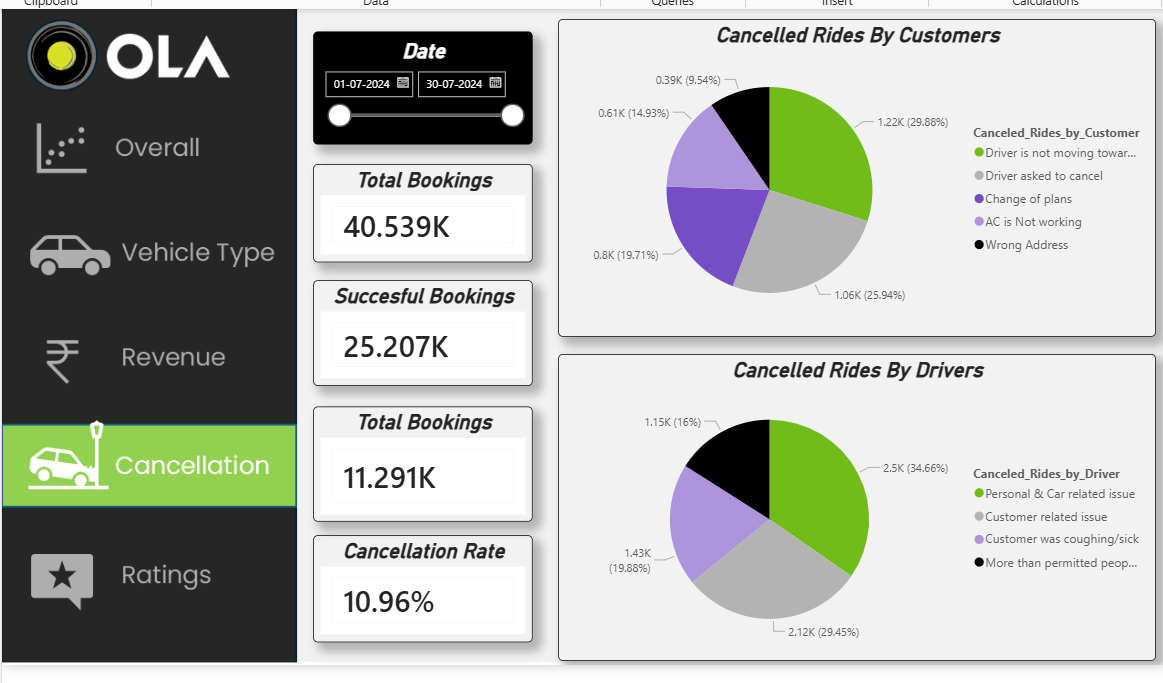

This screenshot's page, from the dashboard's own definition file:
{"tool":"powerbi","page":{"name":"Cancellation","canvas":[1280,720],"ordinal":3},"visuals":[{"type":"actionButton","box":[0,200.3,325.7,114.6],"z":0},{"type":"actionButton","box":[0,113.4,325.7,114.6],"z":1000},{"type":"actionButton","box":[0,334.2,325.7,114.6],"z":2000},{"type":"actionButton","box":[0,448.8,325.7,114.6],"z":3000},{"type":"actionButton","box":[0,546.5,325.7,114.6],"z":4000},{"type":"pieChart","title":"Cancelled Rides By Customers","fields":{"Category":["July.Canceled_Rides_by_Customer"],"Y":["CountNonNull(July.Canceled_Rides_by_Customer)"]},"box":[610.4,11,655.8,349],"z":5000},{"type":"pieChart","title":"Cancelled Rides By Drivers","fields":{"Category":["July.Canceled_Rides_by_Driver"],"Y":["CountNonNull(July.Canceled_Rides_by_Driver)"]},"box":[610.4,378.8,655.8,336.5],"z":6000},{"type":"slicer","title":"Date","fields":{"Values":["July.Date"]},"box":[341.2,25,241,123.6],"z":7000},{"type":"cardVisual","title":"Total Bookings","fields":{"Data":["CountNonNull(July.Booking_ID)"]},"box":[341.2,170.6,241,108],"z":8000},{"type":"cardVisual","title":"Succesful Bookings","fields":{"Data":["CountNonNull(July.Booking_ID)"]},"box":[341.2,297.4,241,115.8],"z":9000},{"type":"cardVisual","title":"Total Bookings","fields":{"Data":["CountNonNull(July.Booking_ID)"]},"box":[341.2,436.7,241,126.8],"z":10000},{"type":"cardVisual","title":"Cancellation Rate","fields":{"Data":["July.CanceledPercentage"]},"box":[341.2,577.6,241,117.4],"z":11000}]}

Visuals, with their boxes on the page's 1280x720 design canvas (x1, y1, x2, y2). These are canvas units, not pixel positions in the 1163x683 screenshot, which may show the page scaled, cropped or inside an application window:
actionButton: bbox(0, 200, 326, 315)
actionButton: bbox(0, 113, 326, 228)
actionButton: bbox(0, 334, 326, 449)
actionButton: bbox(0, 449, 326, 563)
actionButton: bbox(0, 546, 326, 661)
"Cancelled Rides By Customers" pieChart: bbox(610, 11, 1266, 360)
"Cancelled Rides By Drivers" pieChart: bbox(610, 379, 1266, 715)
"Date" slicer: bbox(341, 25, 582, 149)
"Total Bookings" cardVisual: bbox(341, 171, 582, 279)
"Succesful Bookings" cardVisual: bbox(341, 297, 582, 413)
"Total Bookings" cardVisual: bbox(341, 437, 582, 564)
"Cancellation Rate" cardVisual: bbox(341, 578, 582, 695)
